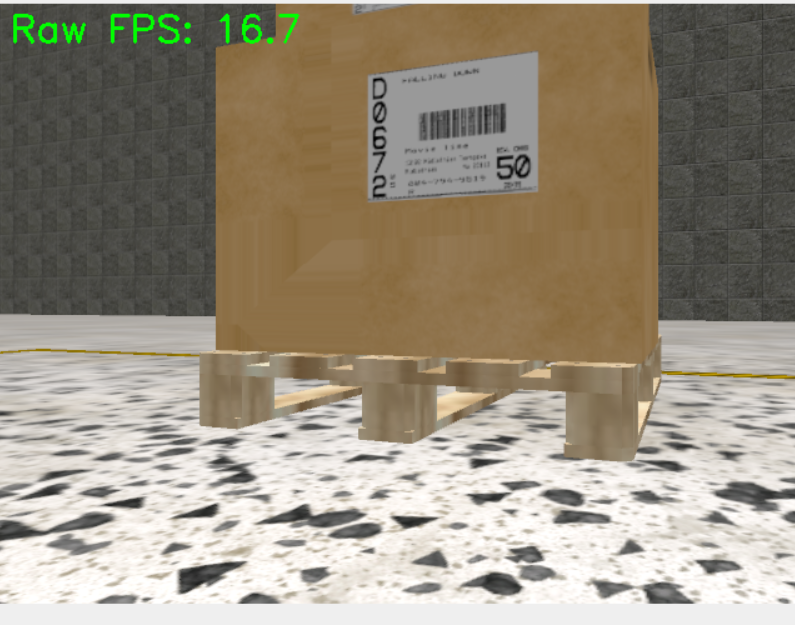barcode: (367, 50, 539, 201)
